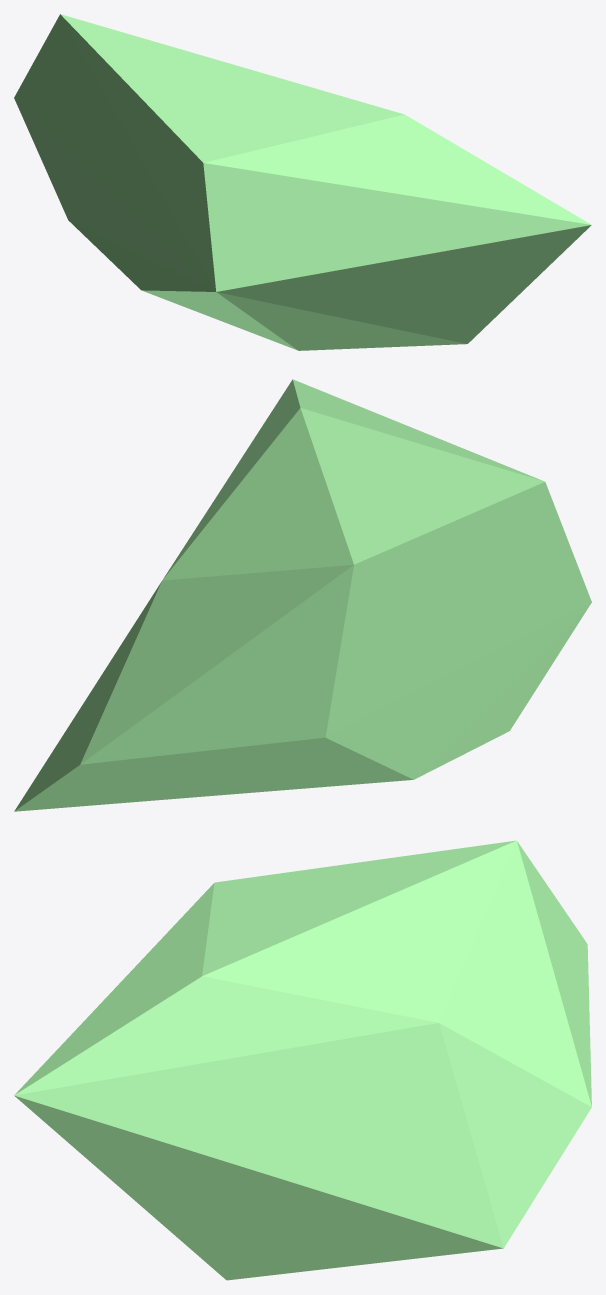
File: UMIRobot_UMIRobot_link_5_convex_coll_30.dae
3 renders of one model, top to bottom at view 1: azimuth 30°, elevation 25°; view 2: azimuth 150°, elevation 25°; view 3: azimuth 270°, elevation 25°, orthographic. The views are drawn at different scales.
Parts seen in each view (by area): view 1: node; view 2: node; view 3: node.
Part boxes in pixels (bbox=[...]): node: bbox=[14, 14, 591, 350]; node: bbox=[14, 379, 591, 811]; node: bbox=[14, 840, 591, 1280].
Bounding box in the file's own units: 0.00303 × 0.00275 × 0.00473.
